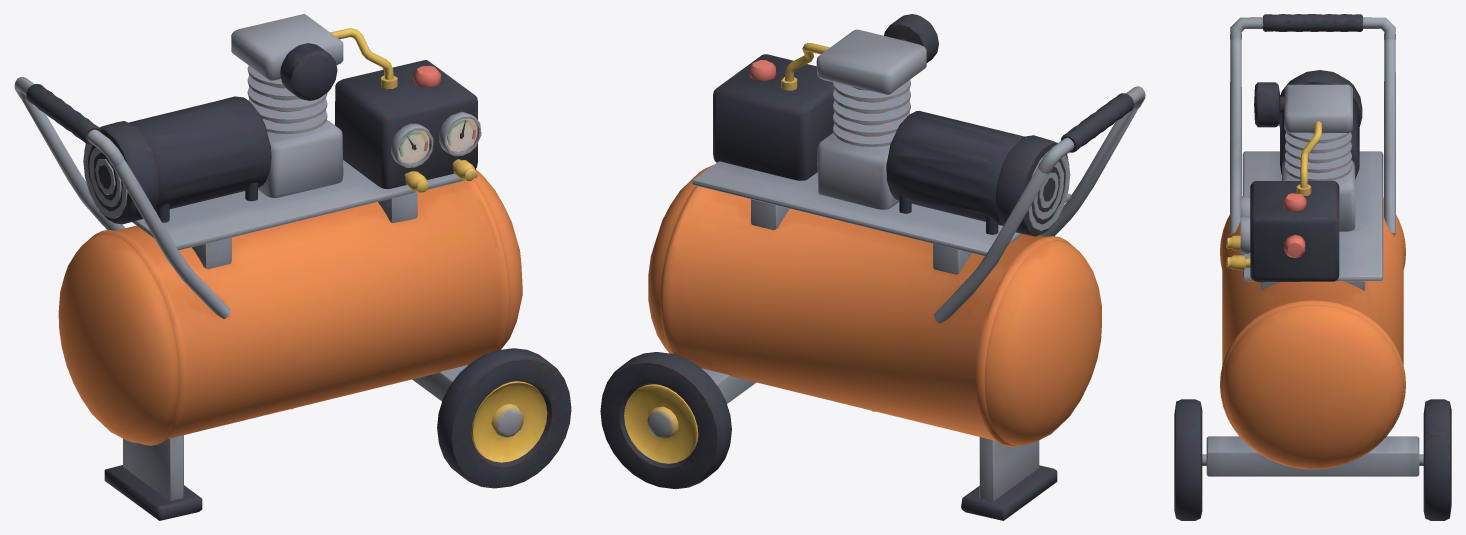
The model's file is air-compressor.glb.
3 renders of one model, left to right at view 1: azimuth 30°, elevation 25°; view 2: azimuth 150°, elevation 25°; view 3: azimuth 270°, elevation 25°, orthographic. The views are drawn at different scales.
Visible parts, largest first — view 1: air-compressor_body; view 2: air-compressor_body; view 3: air-compressor_body.
Part boxes in pixels (<box>): air-compressor_body: <box>14,14,571,520</box>; air-compressor_body: <box>600,14,1145,520</box>; air-compressor_body: <box>1174,14,1451,520</box>.
Size of the model in its own units: 0.953 by 0.901 by 0.612.
1 material, 1 textured.
